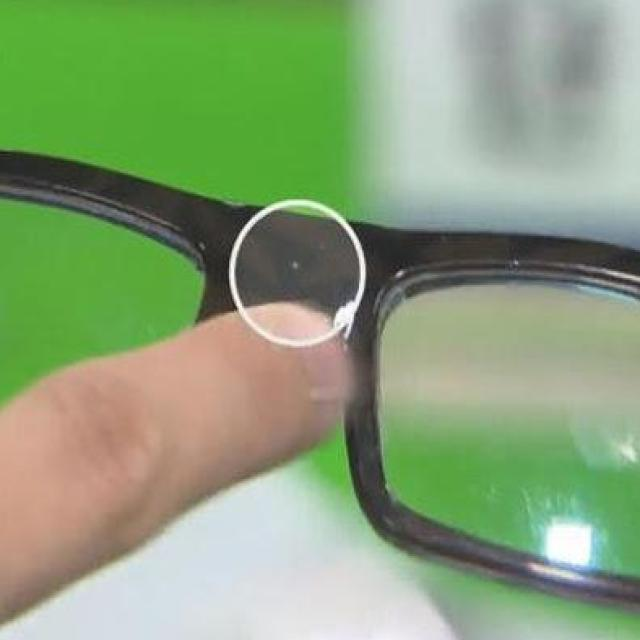hidden camera: (286, 258, 304, 271)
